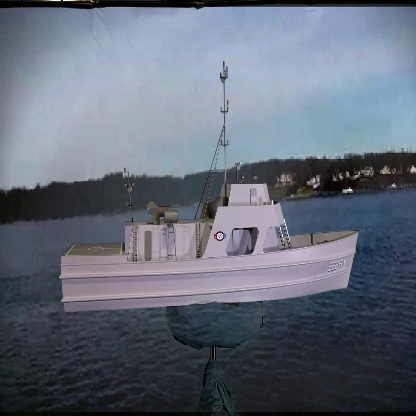YP689: (59, 63, 359, 317)
